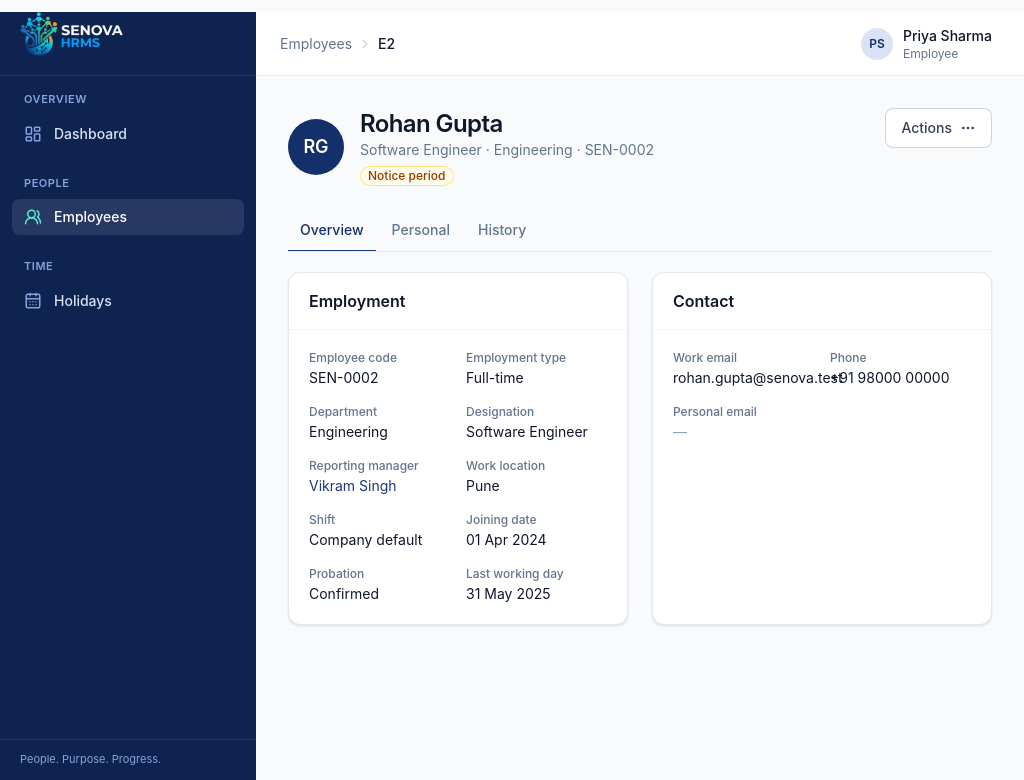
employee profile › offers lifecycle actions that match the current status
The image size is (1024, 780).
Click the button "Actions": (939, 128) [885,108,992,148]
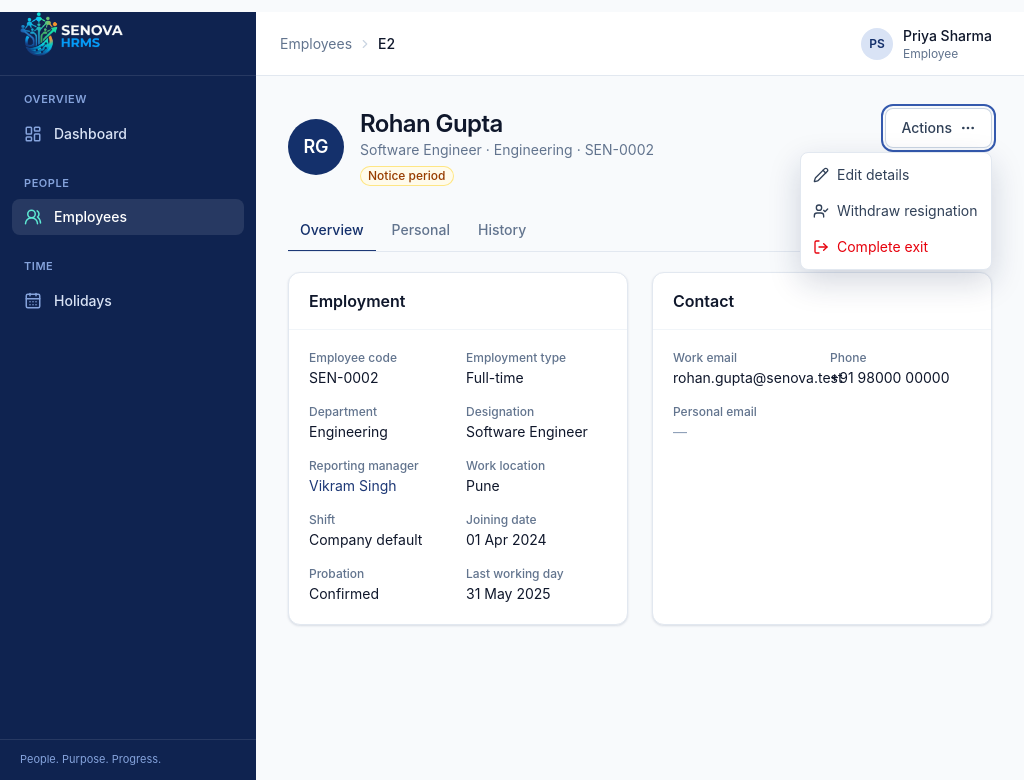
Expected: the menu item "Withdraw resignation" is shown, [801,193,991,229]
Expected: the menu item "Complete exit" is shown, [801,229,991,265]
